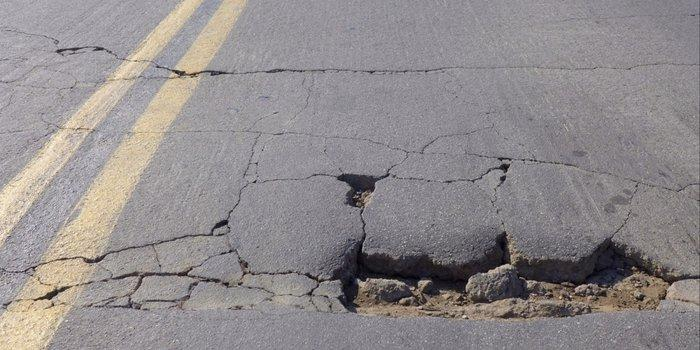Pothole: (326, 233, 676, 321), (329, 163, 386, 211)
